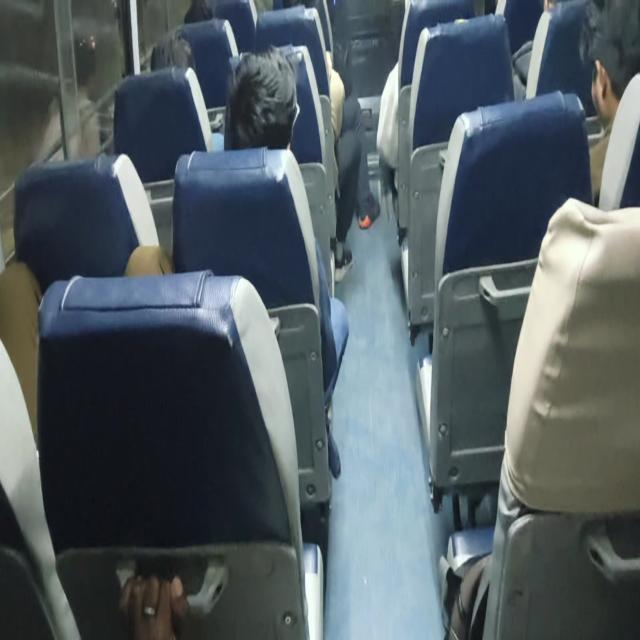person: (568, 0, 640, 105), (240, 42, 293, 154), (148, 28, 200, 88), (178, 0, 222, 30)
